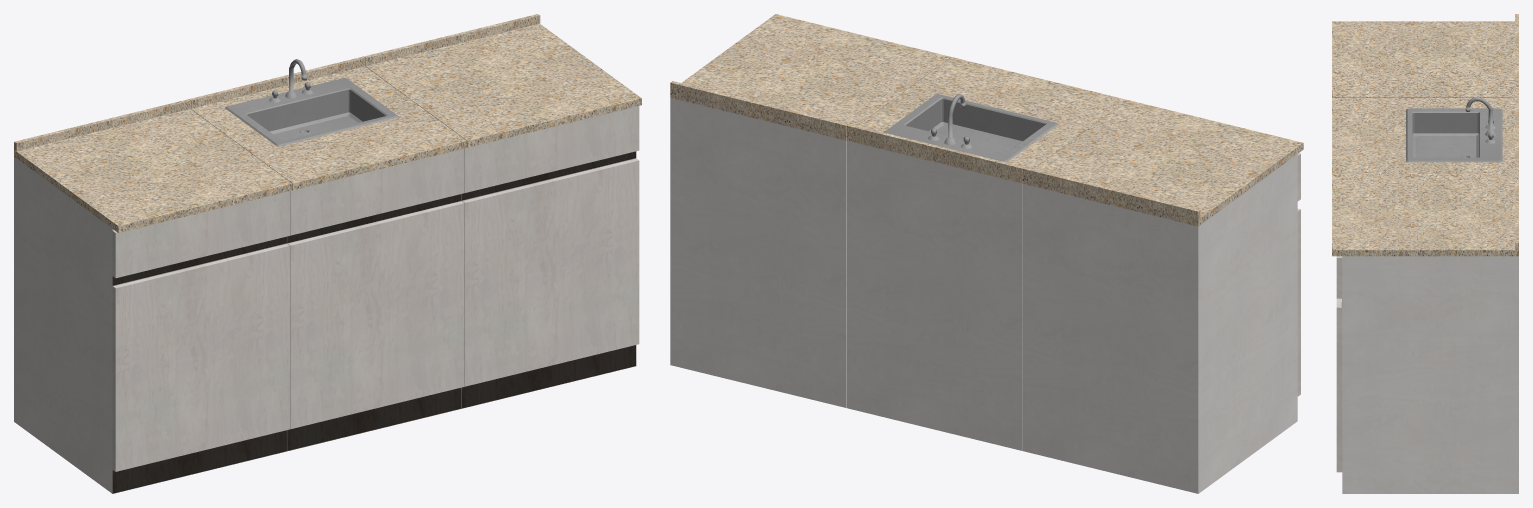
Rendered from sideboard_kitchen.glb.
The picture shows the model from 3 angles, left to right: view 1: azimuth 30°, elevation 25°; view 2: azimuth 150°, elevation 25°; view 3: azimuth 270°, elevation 25°; orthographic projection. The views are drawn at different scales.
Parts seen in each view (by area): view 1: Aparador_Final.001, Aparador_Final, AparadorConFregadero_Final; view 2: Aparador_Final.001, Aparador_Final, AparadorConFregadero_Final; view 3: Aparador_Final, AparadorConFregadero_Final, Aparador_Final.001.
Part boxes in pixels (box(x1,y1,x2,y2)): Aparador_Final.001: box(14, 99, 292, 493); Aparador_Final: box(363, 14, 641, 408); AparadorConFregadero_Final: box(188, 56, 467, 451); Aparador_Final.001: box(1022, 100, 1303, 493); Aparador_Final: box(670, 14, 950, 407); AparadorConFregadero_Final: box(846, 57, 1126, 450); Aparador_Final: box(1332, 166, 1518, 493); AparadorConFregadero_Final: box(1332, 90, 1518, 173); Aparador_Final.001: box(1332, 14, 1518, 97).
Size of the model in its own units: 1.71 by 0.9813 by 0.5893.
Materials: 2 (2 with a texture image).
